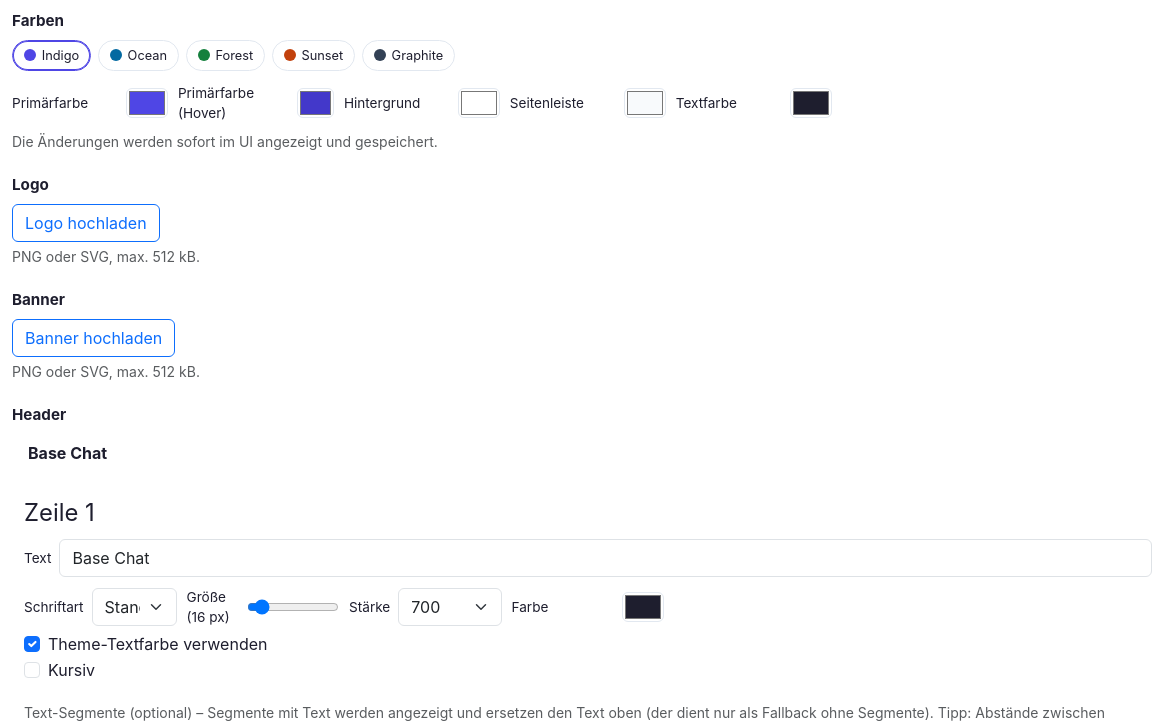
Test: CustomizeTab › updates the color pickers when a preset is applied
This screenshot has width=1164, height=725.
Click the button with aria-label "Farbschema Ocean anwenden": {"x": 138, "y": 55} [98, 40, 179, 71]
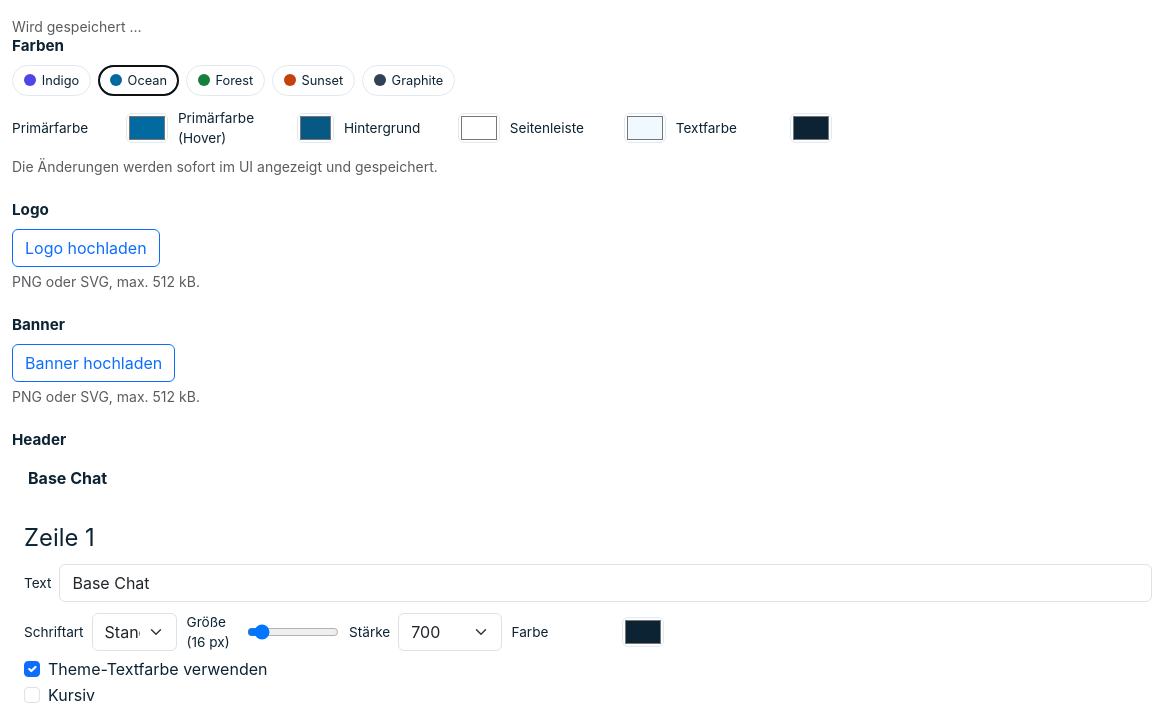
Now the colour field labelled "Primärfarbe" holds "#0369a1", box [126, 113, 168, 143]
Now the colour field labelled "Seitenleiste" holds "#f0f9ff", box [624, 113, 666, 143]
